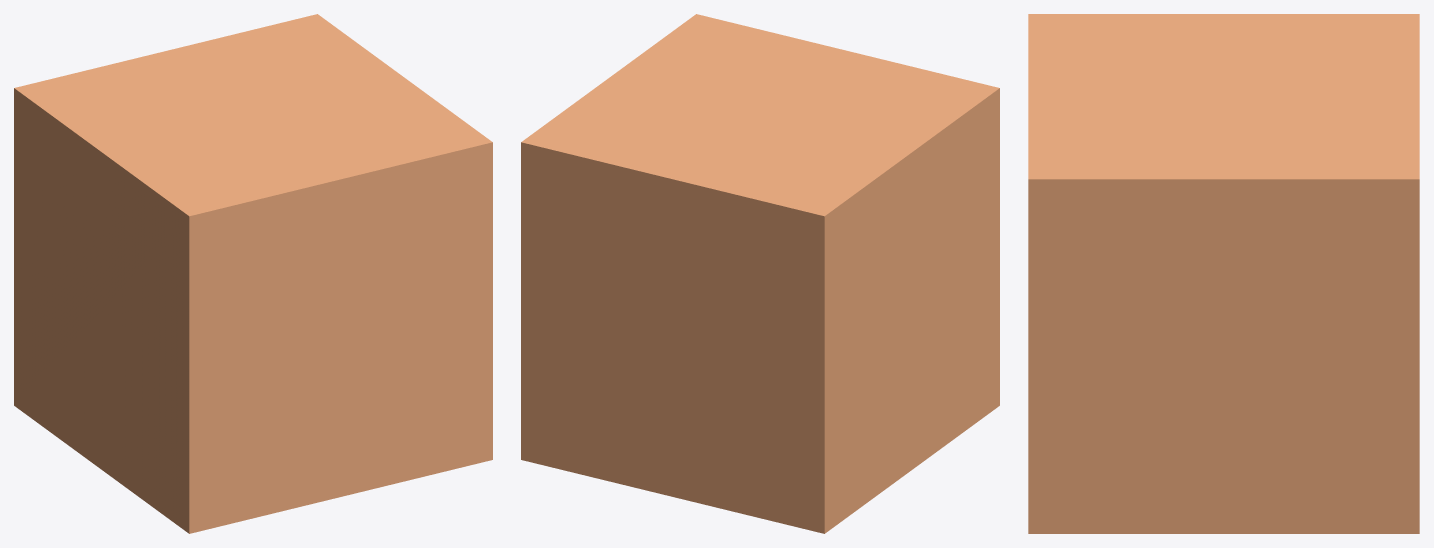
Rendered from 124_ember_brick.glb.
3 views of the same model, side by side, from view 1: azimuth 30°, elevation 25°; view 2: azimuth 150°, elevation 25°; view 3: azimuth 270°, elevation 25° (orthographic). The views are drawn at different scales.
Visible parts, largest first — view 1: Core; view 2: Core; view 3: Core.
Part boxes in pixels (left/top/right/bottom): Core: left=14, top=14, right=492, bottom=533; Core: left=521, top=14, right=999, bottom=533; Core: left=1028, top=14, right=1419, bottom=533.
Bounding box in the file's own units: 1 × 1 × 1.
